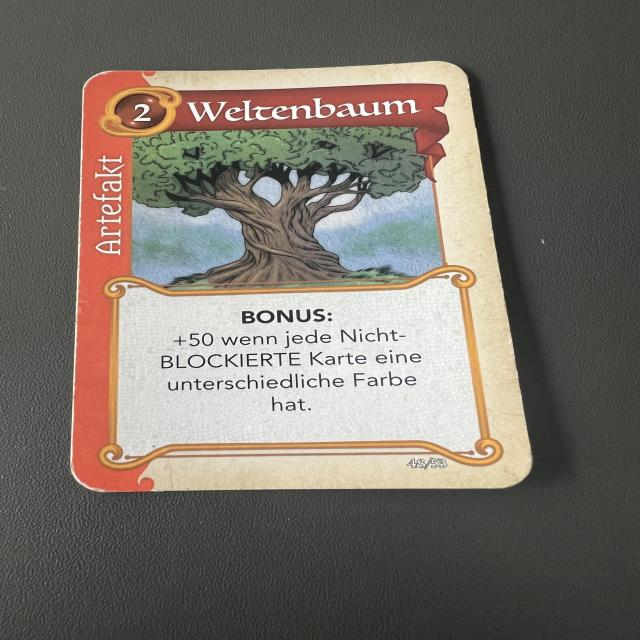World Tree: (61, 56, 545, 500)
